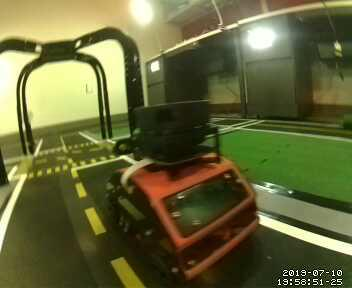pheeno: (102, 100, 262, 288)
